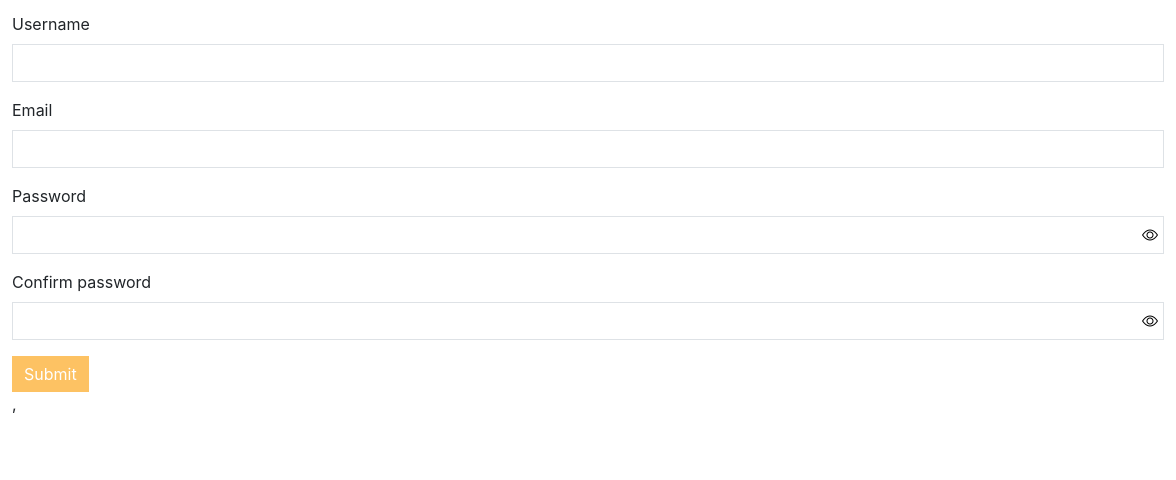
Test: Register Form › should display an error message for an email less than 6 characters long
Step 1. Type "user" into the field labelled "Username" → (588, 63), box x1=12 y1=44 x2=1164 y2=82
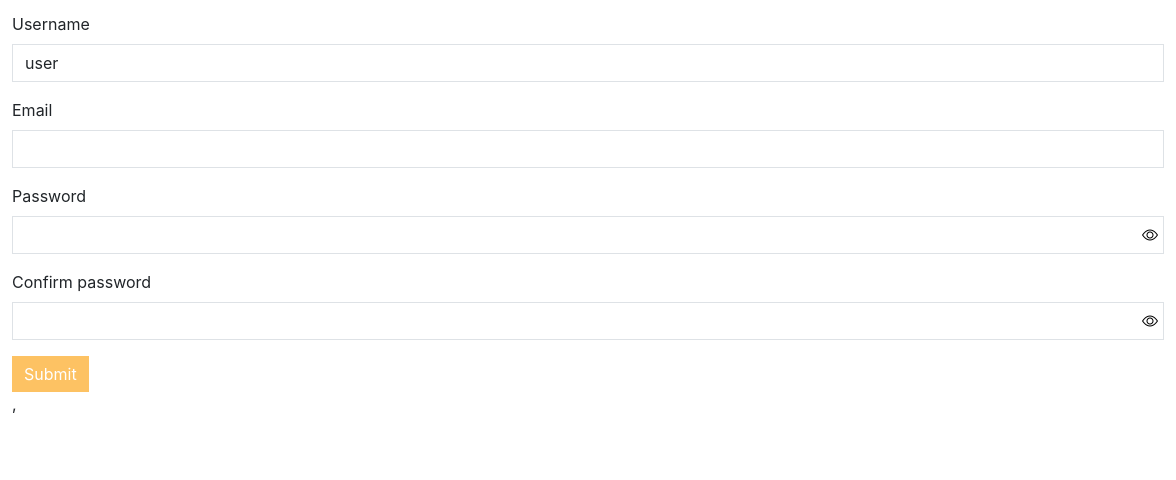
Step 2. Type "a@a" into the field labelled "Email" → (588, 149), box x1=12 y1=130 x2=1164 y2=168
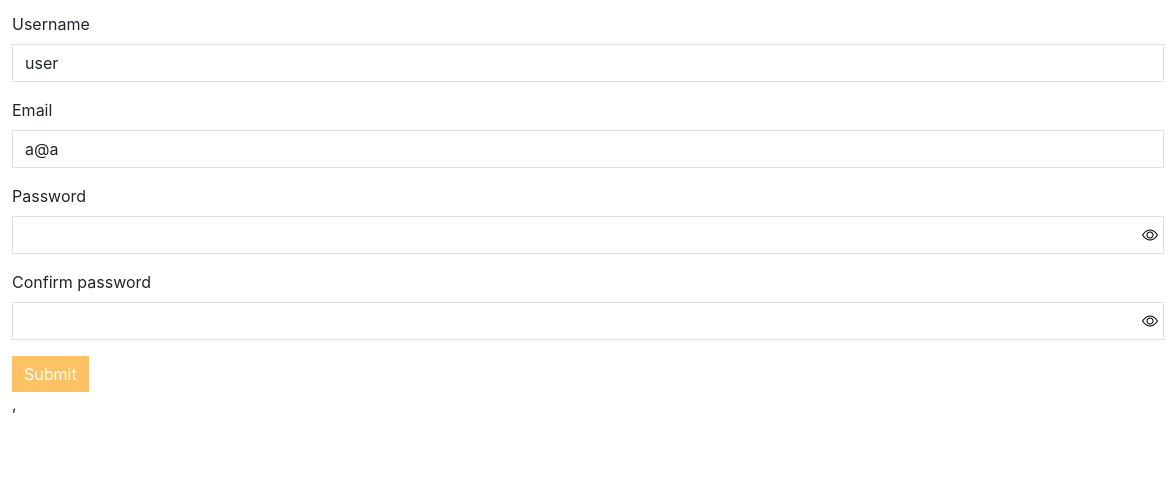
Step 3. Type "Pa$$w0rd" into the password field labelled "Password" → (588, 235), box x1=12 y1=216 x2=1164 y2=254
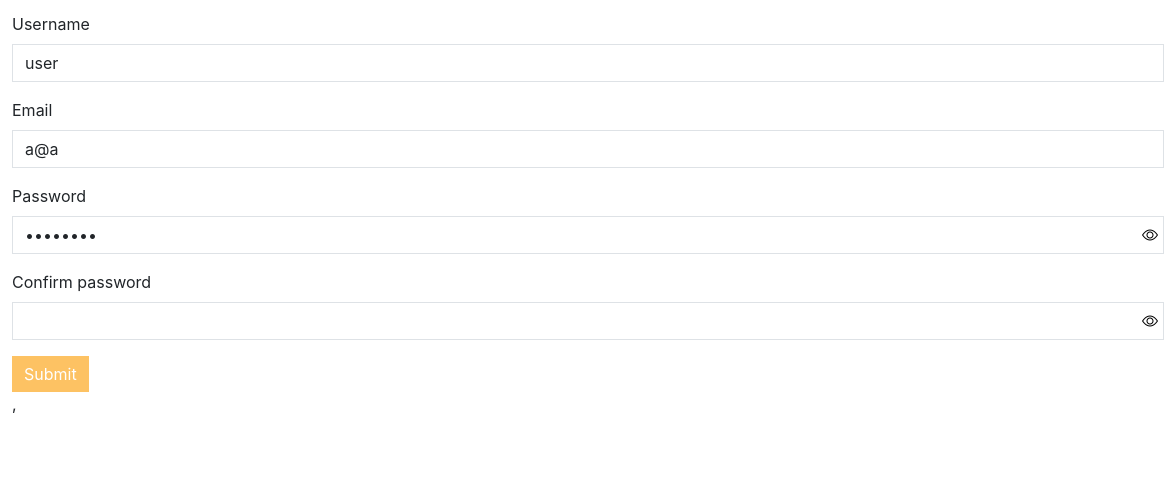
Step 4. Type "Pa$$w0rd" into the password field labelled "Confirm password" → (588, 321), box x1=12 y1=302 x2=1164 y2=340
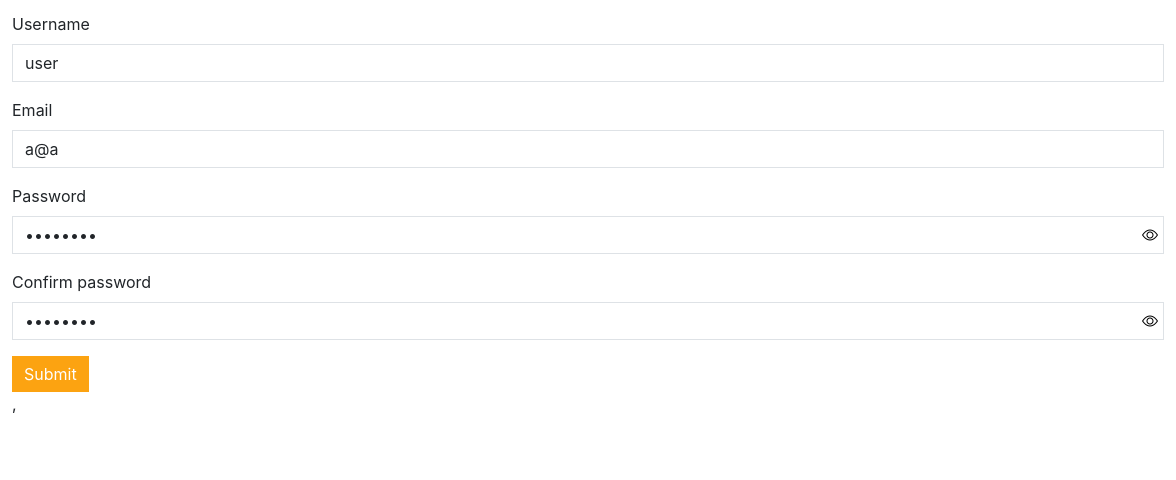
Step 5. Click the button "Submit" → (50, 374), box x1=12 y1=356 x2=89 y2=392
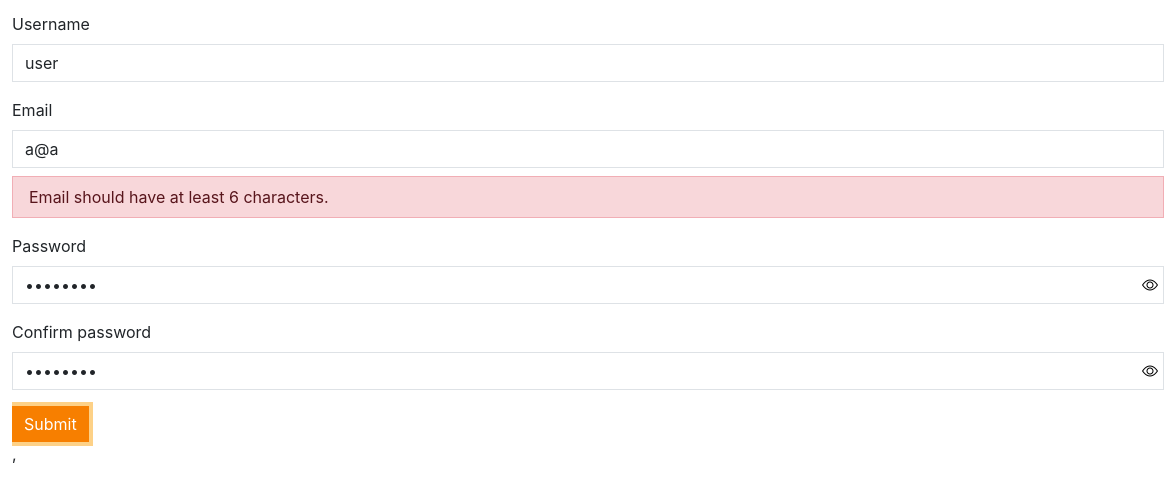
Now the text "Email should have at least 6 characters." is shown, box x1=12 y1=176 x2=1164 y2=218
